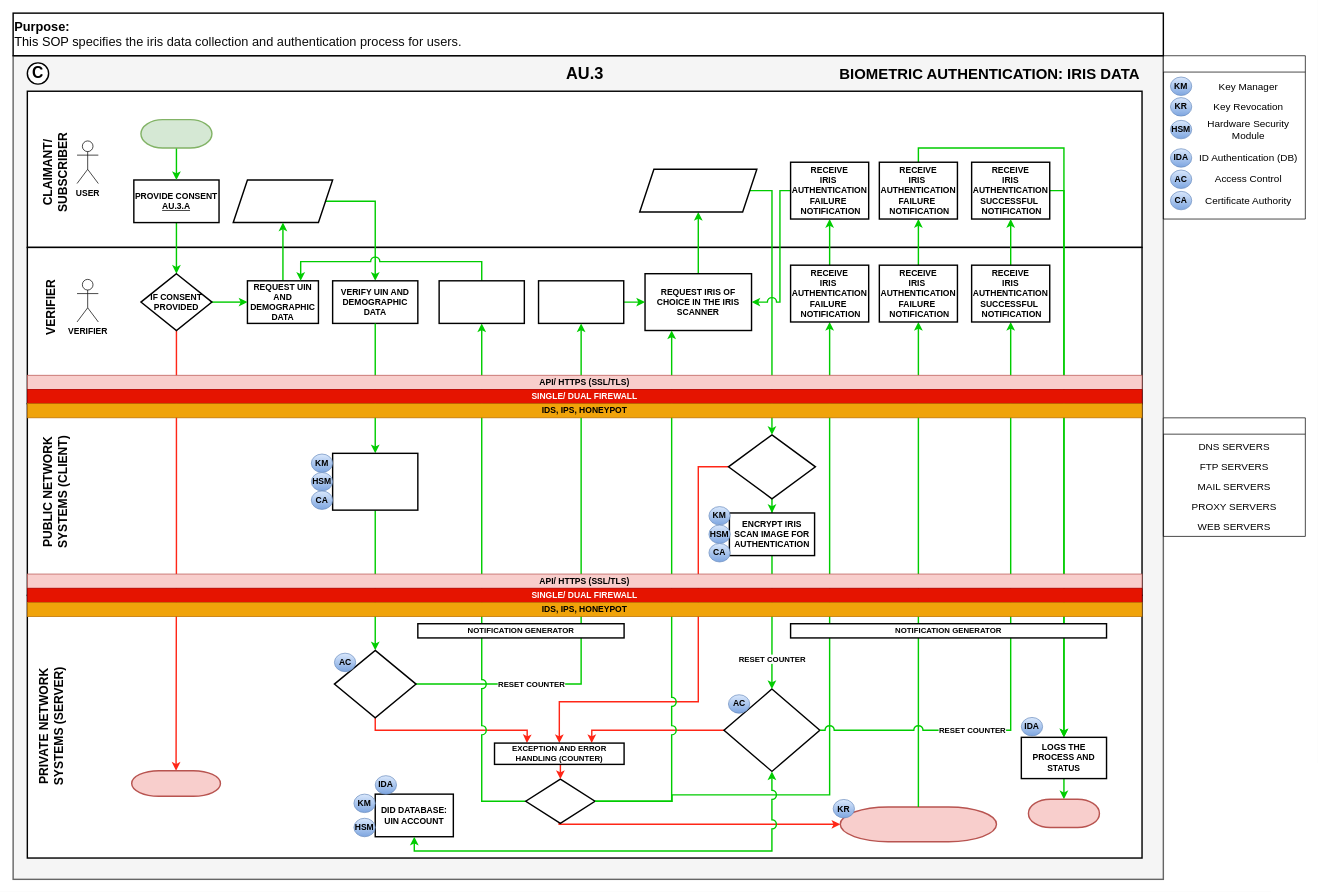
Some shapes in this 1318 by 892 pixel diagram are drawn without their labels. Each missing label, with the box of its shape:
END: (1027, 798, 1100, 828)
IF IRIS MATCH WITH UIN ACCOUNT (>95% MATCH SCORE): (723, 688, 820, 772)
IF IRIS SCANNING SUCCESSFUL: (727, 434, 816, 499)
IF RETRY COUNT <=3: (525, 778, 595, 824)
IF UIN AND DEMOGRAPHIC DATA MATCH: (333, 649, 416, 718)
LEGEND: (1163, 55, 1305, 219)
MASK & ENCRYPT UIN AND DEMOGRAPHIC DATA FOR AUTHENTICATION: (332, 452, 418, 510)
PROVIDE IRIS OF CHOICE IN IRIS SCANNER: (639, 168, 757, 212)
PROVIDE UIN AND DEMOGRAPHIC DATA: (232, 179, 333, 223)
PUBLIC NETWORK: (1163, 417, 1305, 536)
RECEIVE VERIFICATION FAILURE STATUS: (438, 280, 525, 324)
RECEIVE VERIFICATION SUCCESSFUL STATUS: (537, 280, 624, 324)
START (OFFLINE): (140, 119, 212, 148)
TERMINATE PROCESS: (131, 770, 221, 797)
TERMINATE PROCESS: LOCK UIN ACCOUNT FOR 24 HOURS: (839, 806, 997, 842)
